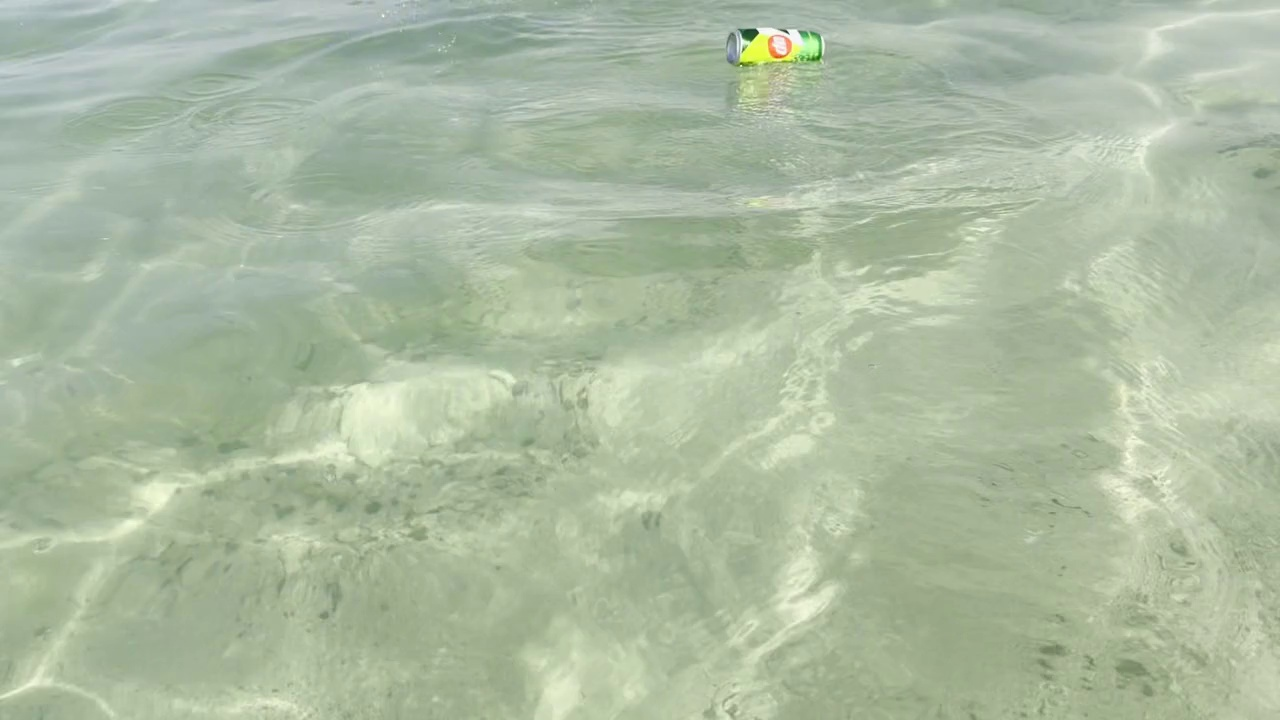debris: (716, 21, 833, 77)
